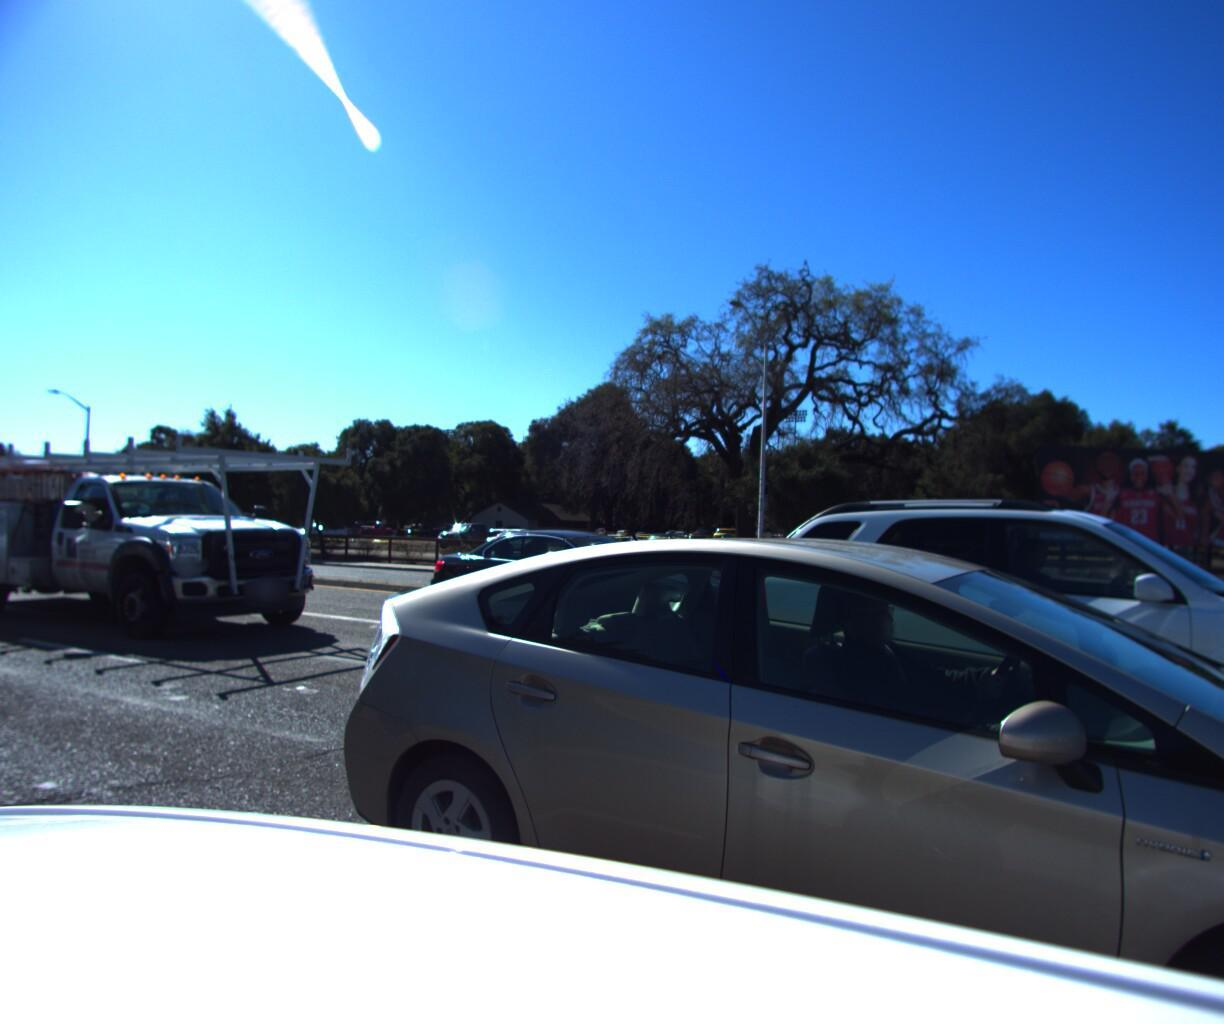car: (301, 502, 1224, 1024), (724, 475, 1224, 833), (429, 526, 764, 645), (0, 476, 8, 696)
other_vehicle: (0, 407, 361, 659)
